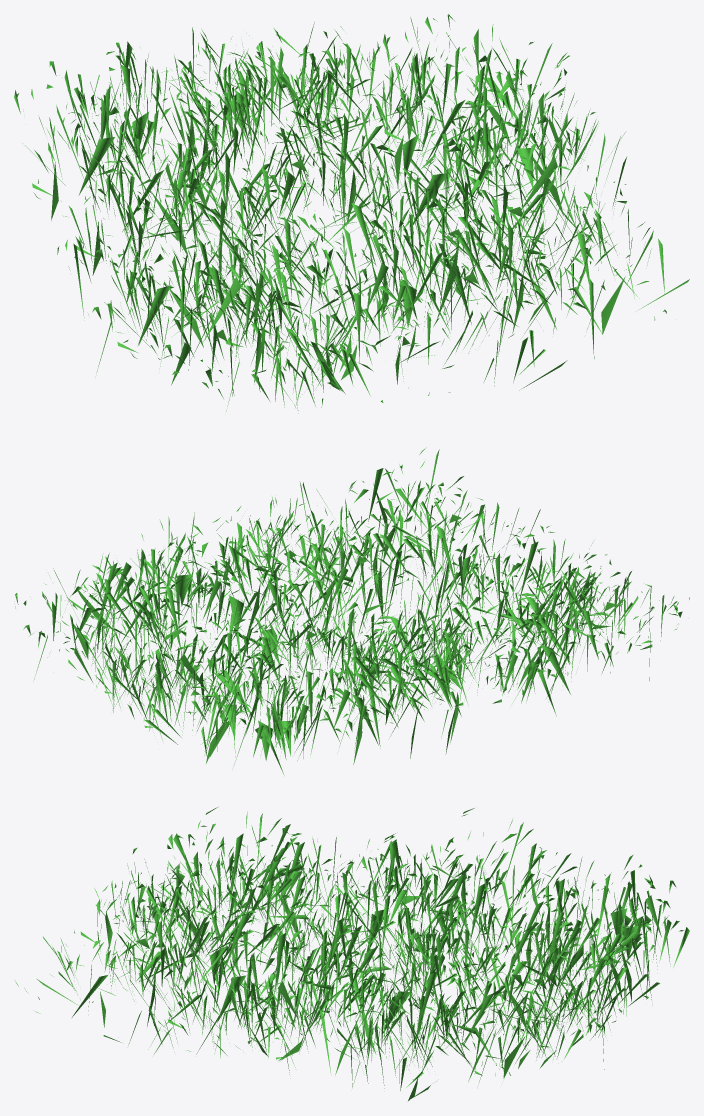
The model's file is lawn.glb.
3 views of the same model, one above another, from view 1: azimuth 30°, elevation 25°; view 2: azimuth 150°, elevation 25°; view 3: azimuth 270°, elevation 25° (orthographic). The views are drawn at different scales.
Visible parts, largest first — view 1: lawn_patch; view 2: lawn_patch; view 3: lawn_patch.
Part boxes in pixels (x1,y1,x2,y2): lawn_patch: [14, 14, 689, 413]; lawn_patch: [15, 447, 689, 775]; lawn_patch: [15, 807, 689, 1100].
Bounding box in the file's own units: 0.9014 × 0.2308 × 1.01.
